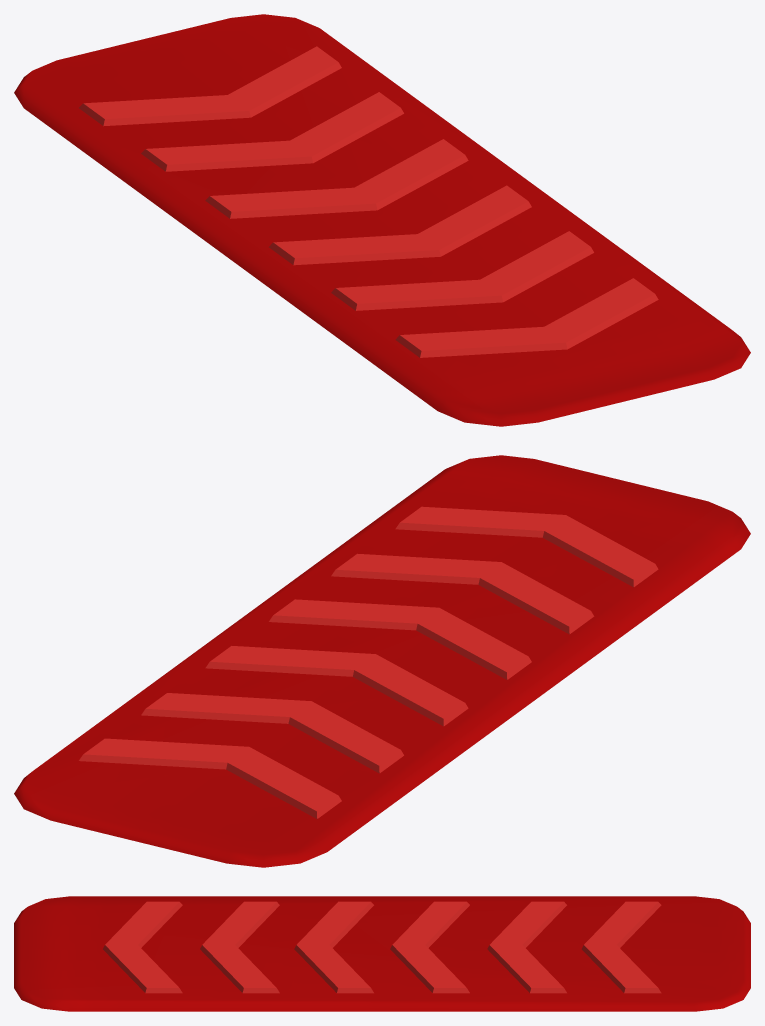
File: SlowDown.fbx
3 renders of one model, top to bottom at view 1: azimuth 30°, elevation 25°; view 2: azimuth 150°, elevation 25°; view 3: azimuth 270°, elevation 25°, orthographic. The views are drawn at different scales.
Visible parts, largest first — view 1: SlowDown; view 2: SlowDown; view 3: SlowDown.
Boxes of the visible parts, <box> form: SlowDown: <box>14,14,750,426</box>; SlowDown: <box>14,455,750,867</box>; SlowDown: <box>14,896,750,1011</box>.
Bounding box in the file's own units: 150 × 6.78 × 416.
